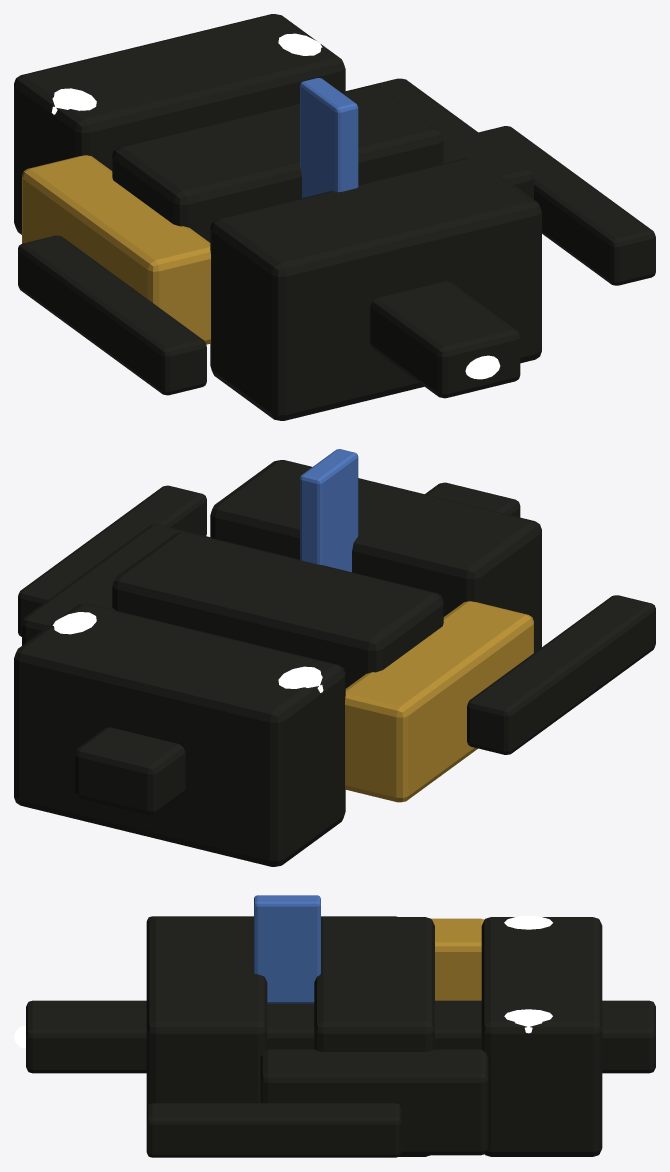
3 views of the same model, one above another, from view 1: azimuth 30°, elevation 25°; view 2: azimuth 150°, elevation 25°; view 3: azimuth 270°, elevation 25° (orthographic). The views are drawn at different scales.
Visible parts, largest first — view 1: RIMWARD_HULL, RIMWARD_EMISSIVE, RIMWARD_ENGINE_GLOW; view 2: RIMWARD_HULL, RIMWARD_EMISSIVE; view 3: RIMWARD_HULL, RIMWARD_EMISSIVE.
Boxes of the visible parts, <box> form: RIMWARD_HULL: <box>14,14,655,420</box>; RIMWARD_EMISSIVE: <box>51,33,322,114</box>; RIMWARD_ENGINE_GLOW: <box>465,355,500,379</box>; RIMWARD_HULL: <box>14,449,655,866</box>; RIMWARD_EMISSIVE: <box>52,612,323,692</box>; RIMWARD_HULL: <box>26,895,655,1157</box>; RIMWARD_EMISSIVE: <box>504,915,552,1033</box>.
Bounding box in the file's own units: 61.71 × 28.81 × 81.43.
